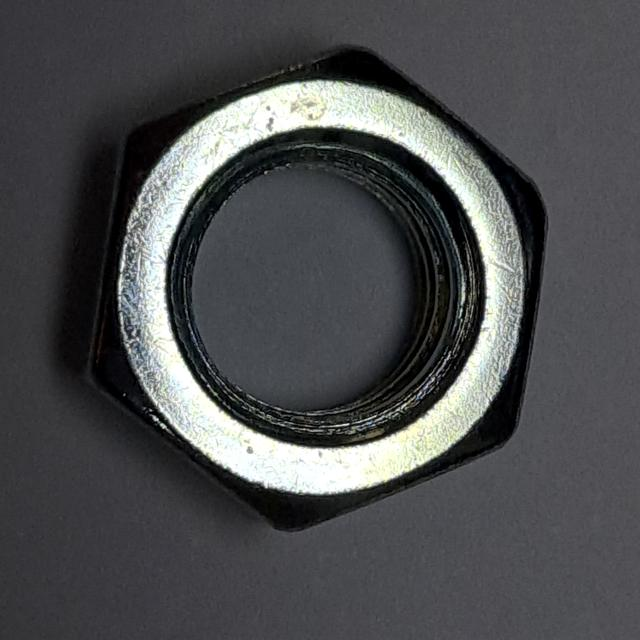Excellent: (73, 31, 557, 555)
